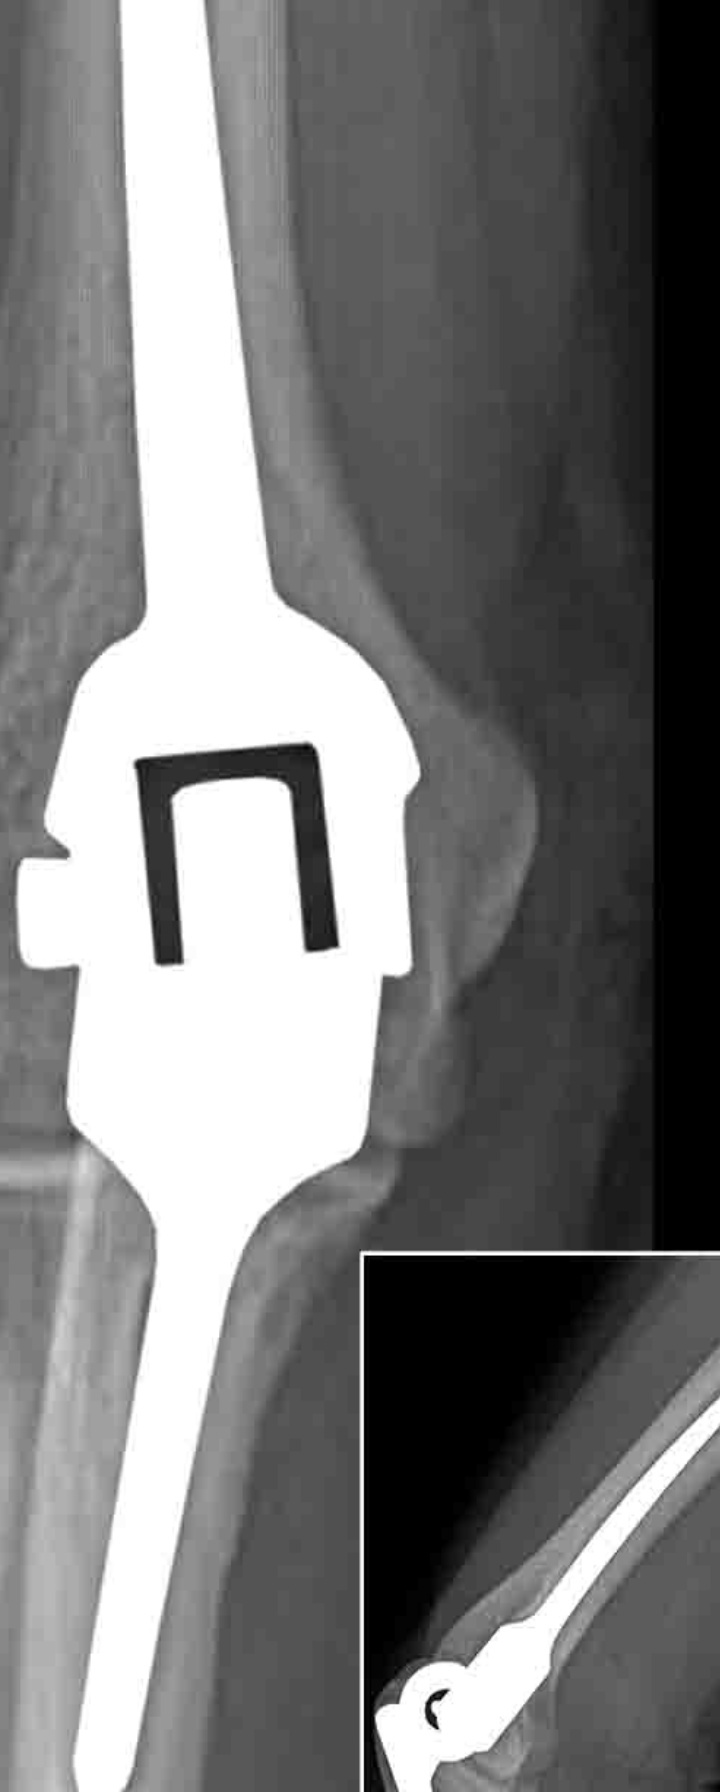Elbow - Osteonics - Stryker: (8, 2, 461, 1650), (368, 1291, 720, 1791)
